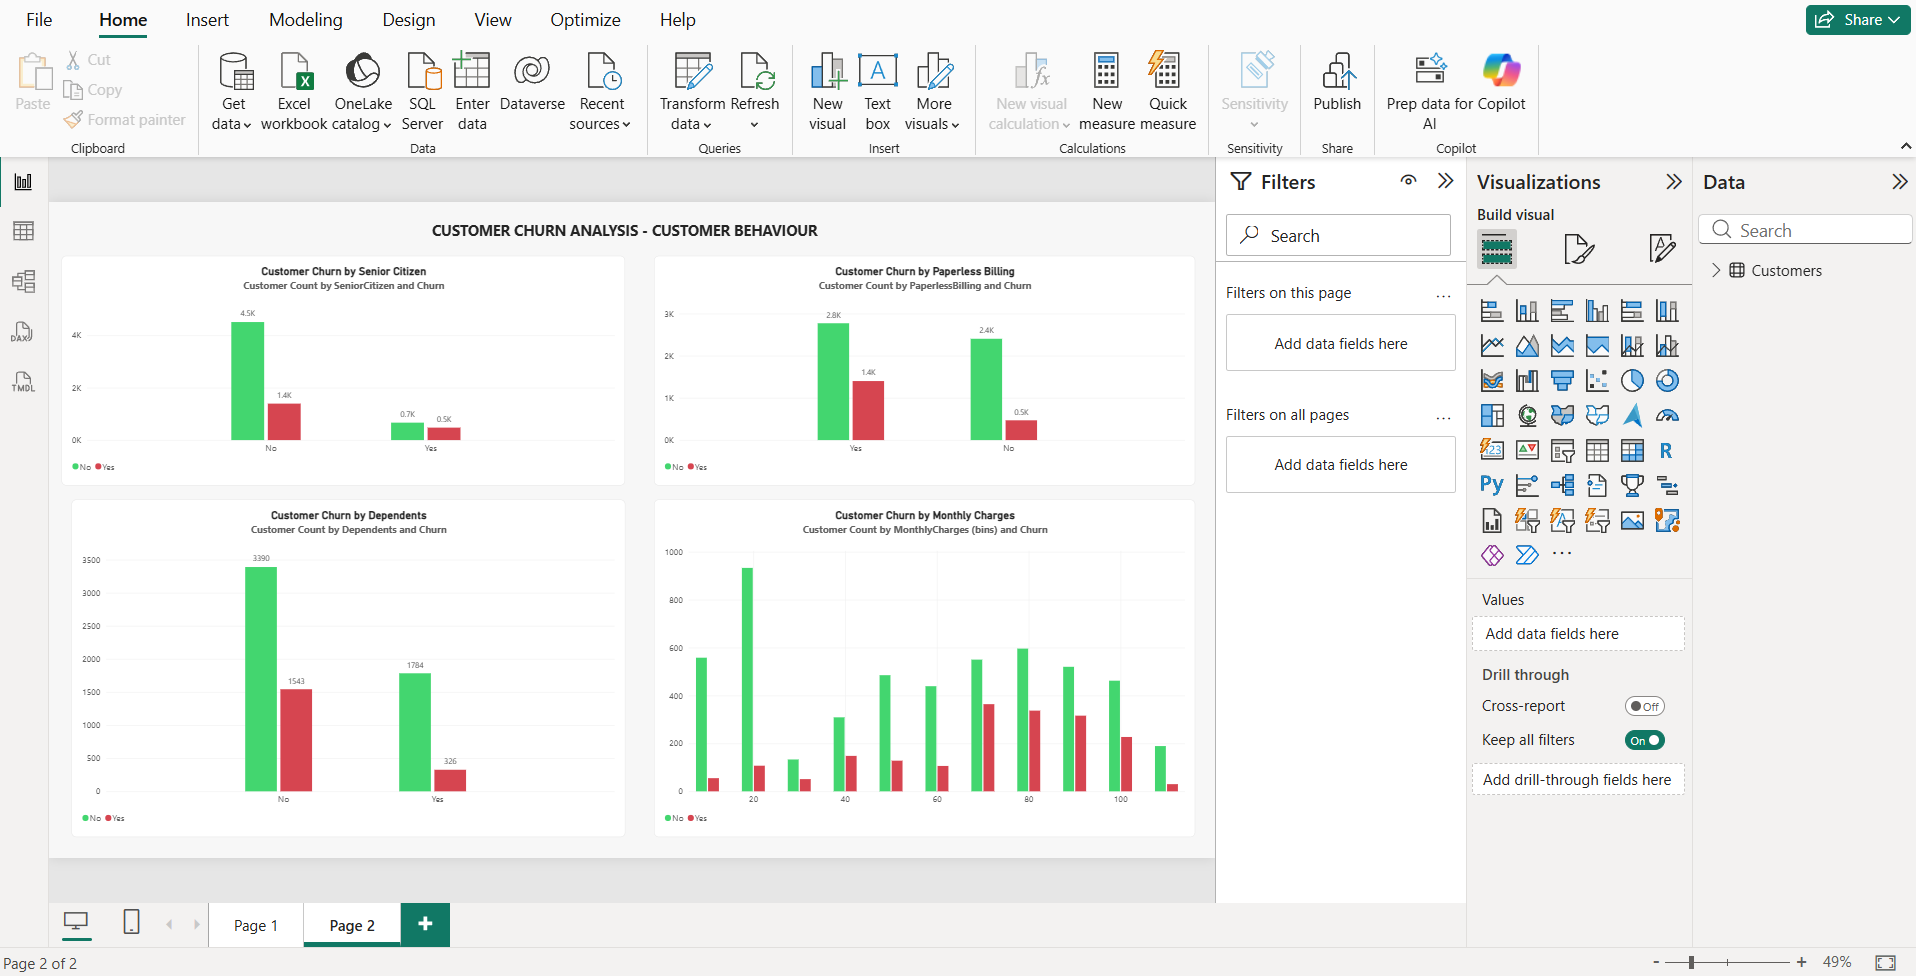

Layout of this report page (visuals, bound fields, positions):
{"tool":"powerbi","page":{"name":"Page 2","canvas":[1920,1080],"ordinal":1},"visuals":[{"type":"clusteredColumnChart","title":"Customer Churn by Senior Citizen","fields":{"Category":["Customers.SeniorCitizen"],"Series":["Customers.Churn"],"Y":["Customers.Customer Count"]},"box":[20,108.3,720,338.3],"z":0},{"type":"clusteredColumnChart","title":"Customer Churn by Paperless Billing","fields":{"Category":["Customers.PaperlessBilling"],"Series":["Customers.Churn"],"Y":["Customers.Customer Count"]},"box":[773.3,108.3,743.3,338.3],"z":1},{"type":"clusteredColumnChart","title":"Customer Churn by Dependents","fields":{"Category":["Customers.Dependents"],"Series":["Customers.Churn"],"Y":["Customers.Customer Count"]},"box":[20,456.7,720,475],"z":2},{"type":"clusteredColumnChart","title":"Customer Churn by Monthly Charges","fields":{"Category":["Customers.MonthlyCharges (bins)"],"Series":["Customers.Churn"],"Y":["Customers.Customer Count"]},"box":[773.3,458.3,743.3,475],"z":3},{"type":"textbox","box":[378.3,31.7,723.3,76.7],"z":4}]}

Visuals, with their boxes on the page's 1920x1080 design canvas (x1, y1, x2, y2). These are canvas units, not pixel positions in the 1916x976 screenshot, which may show the page scaled, cropped or inside an application window:
"Customer Churn by Senior Citizen" clusteredColumnChart: rect(20, 108, 740, 447)
"Customer Churn by Paperless Billing" clusteredColumnChart: rect(773, 108, 1517, 447)
"Customer Churn by Dependents" clusteredColumnChart: rect(20, 457, 740, 932)
"Customer Churn by Monthly Charges" clusteredColumnChart: rect(773, 458, 1517, 933)
textbox: rect(378, 32, 1102, 108)
